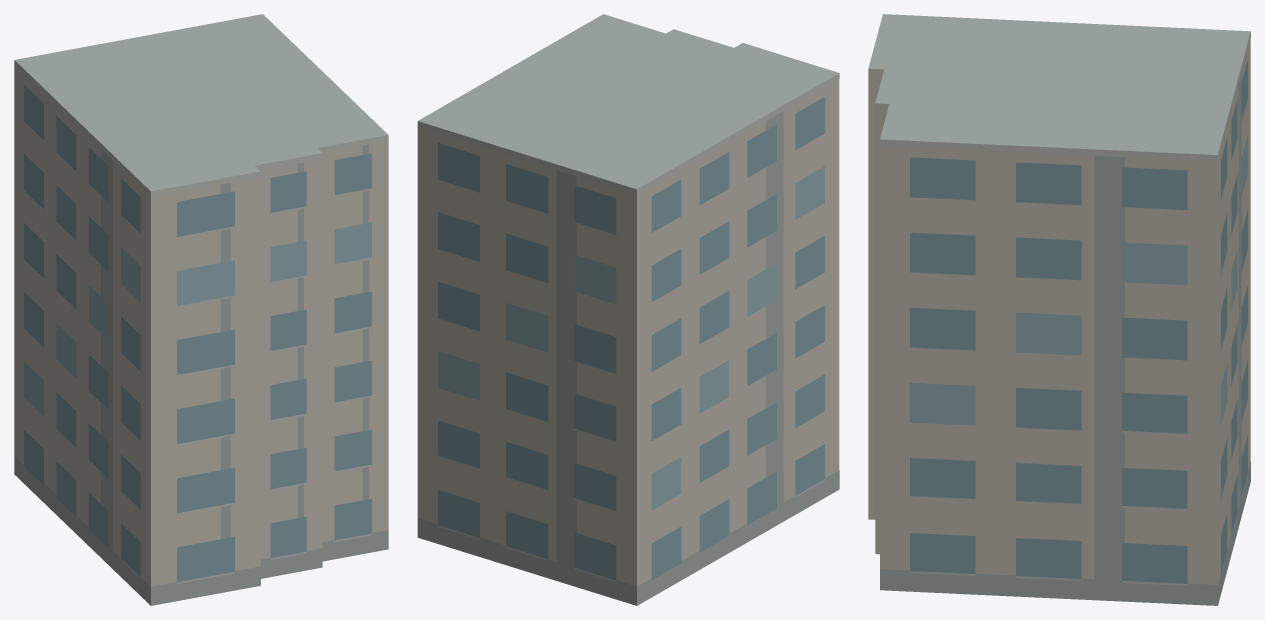
File: survey-upis-33045521.glb
The picture shows the model from 3 angles, left to right: view 1: azimuth 30°, elevation 25°; view 2: azimuth 150°, elevation 25°; view 3: azimuth 270°, elevation 25°; orthographic projection. The views are drawn at different scales.
Visible parts, largest first — view 1: survey-upis-33045521.tmp; view 2: survey-upis-33045521.tmp; view 3: survey-upis-33045521.tmp.
Part boxes in pixels (x1=…): survey-upis-33045521.tmp: x1=14, y1=14, x2=388, y2=605; survey-upis-33045521.tmp: x1=417, y1=14, x2=839, y2=605; survey-upis-33045521.tmp: x1=868, y1=14, x2=1250, y2=605.
Bounding box in the file's own units: 11.56 × 17.2 × 13.24.
